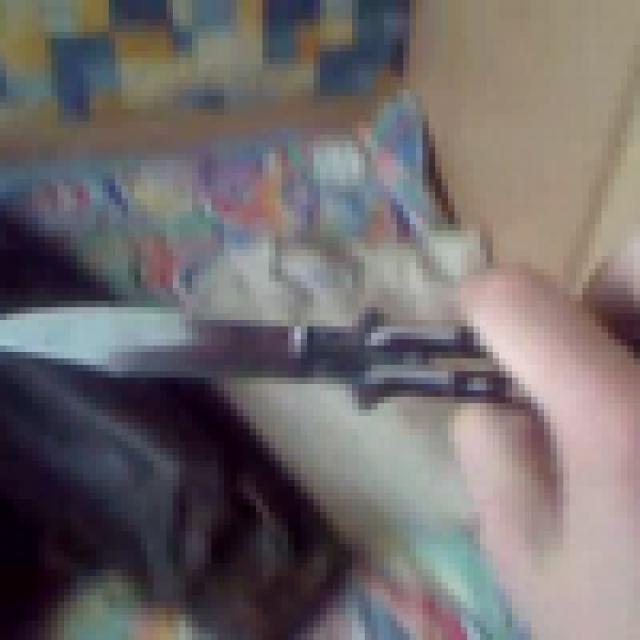Knife: (0, 269, 563, 499)
